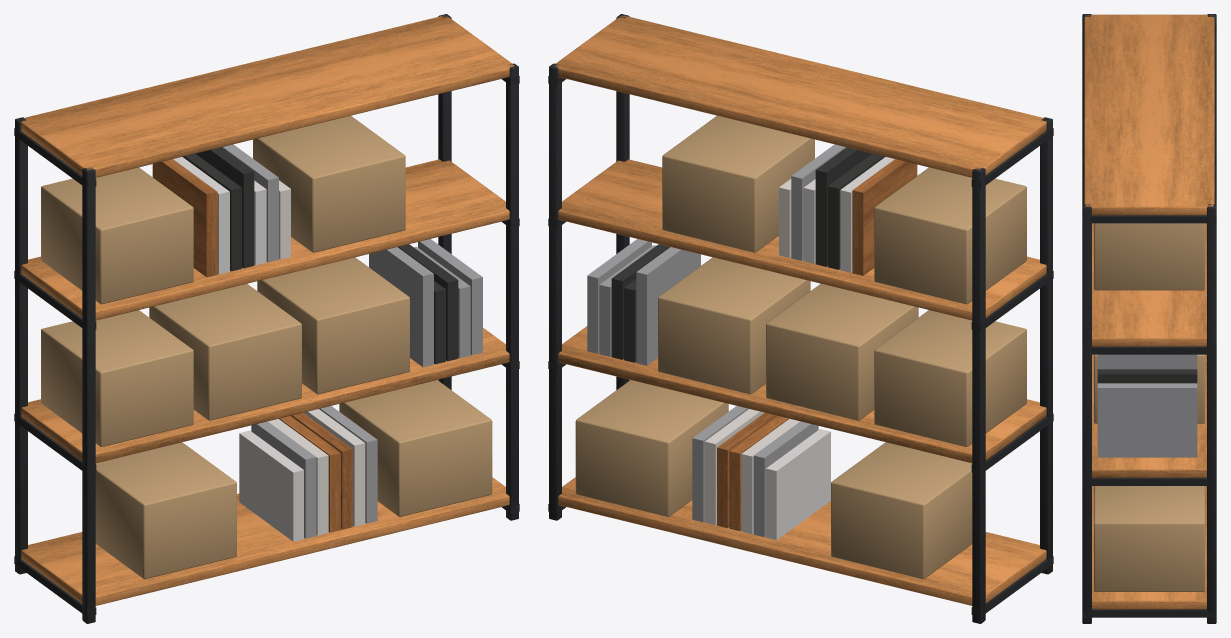
File: storage.bookcase-wide.glb
3 views of the same model, side by side, from view 1: azimuth 30°, elevation 25°; view 2: azimuth 150°, elevation 25°; view 3: azimuth 270°, elevation 25° (orthographic). The views are drawn at different scales.
Visible parts, largest first — view 1: storage.bookcase-wide.001; view 2: storage.bookcase-wide.001; view 3: storage.bookcase-wide.001.
Boxes of the visible parts, box(x1,y1,x2,y2) form: storage.bookcase-wide.001: box(14, 14, 519, 623); storage.bookcase-wide.001: box(548, 14, 1053, 623); storage.bookcase-wide.001: box(1082, 14, 1216, 623).
Bounding box in the file's own units: 1.2 × 1.2 × 0.35.
8 materials, 2 textured.
